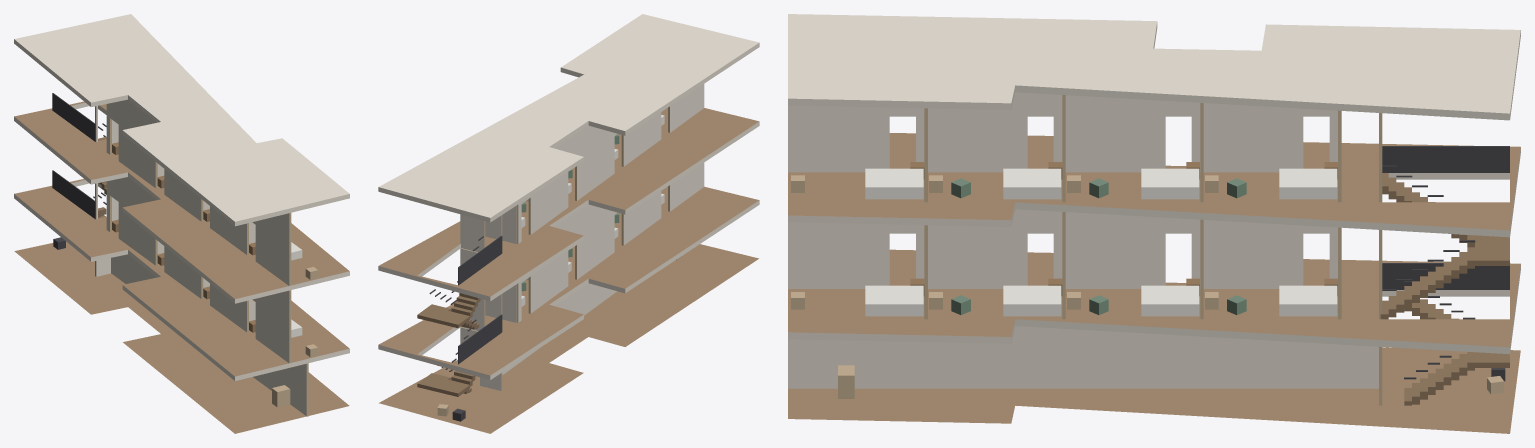
Rendered from interior.glb.
3 renders of one model, left to right at view 1: azimuth 30°, elevation 25°; view 2: azimuth 150°, elevation 25°; view 3: azimuth 270°, elevation 25°, orthographic. The views are drawn at different scales.
Visible parts, largest first — view 1: slabs, partitions, stair, coarse-s2, coarse-s1, coarse-s0; view 2: slabs, partitions, stair; view 3: slabs, partitions, stair, coarse-s1, coarse-s2, coarse-s0.
Boxes of the visible parts, <box> form: slabs: <box>14,14,349,433</box>; partitions: <box>95,99,308,416</box>; stair: <box>52,93,106,219</box>; coarse-s2: <box>112,142,318,279</box>; coarse-s1: <box>112,219,318,357</box>; coarse-s0: <box>53,237,290,407</box>; slabs: <box>378,14,759,433</box>; partitions: <box>460,84,704,390</box>; stair: <box>417,236,502,396</box>; slabs: <box>788,14,1520,433</box>; partitions: <box>788,92,1382,405</box>; stair: <box>1380,146,1509,405</box>; coarse-s1: <box>791,278,1337,316</box>; coarse-s2: <box>791,162,1337,199</box>; coarse-s0: <box>838,365,1505,398</box>.
Bounding box in the file's own units: 8.09 × 12.15 × 25.14.
